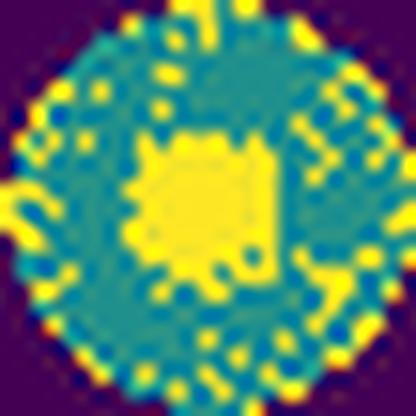Center: (119, 124, 284, 306)
